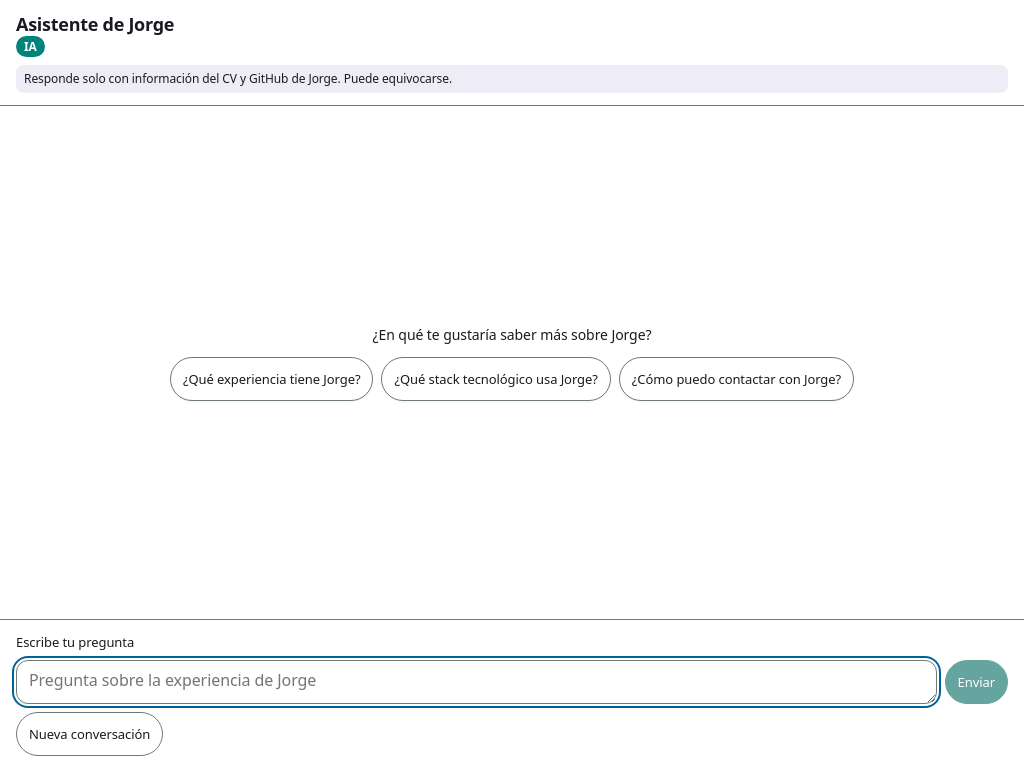
Scenario: RF-F41 — secuencia de un turno completo › announces that the assistant has nothing when the answer is empty
In the text box labelled "Escribe tu pregunta": (476, 682) [16,660,937,704], type "¿Dónde vive el gato de Jorge?"
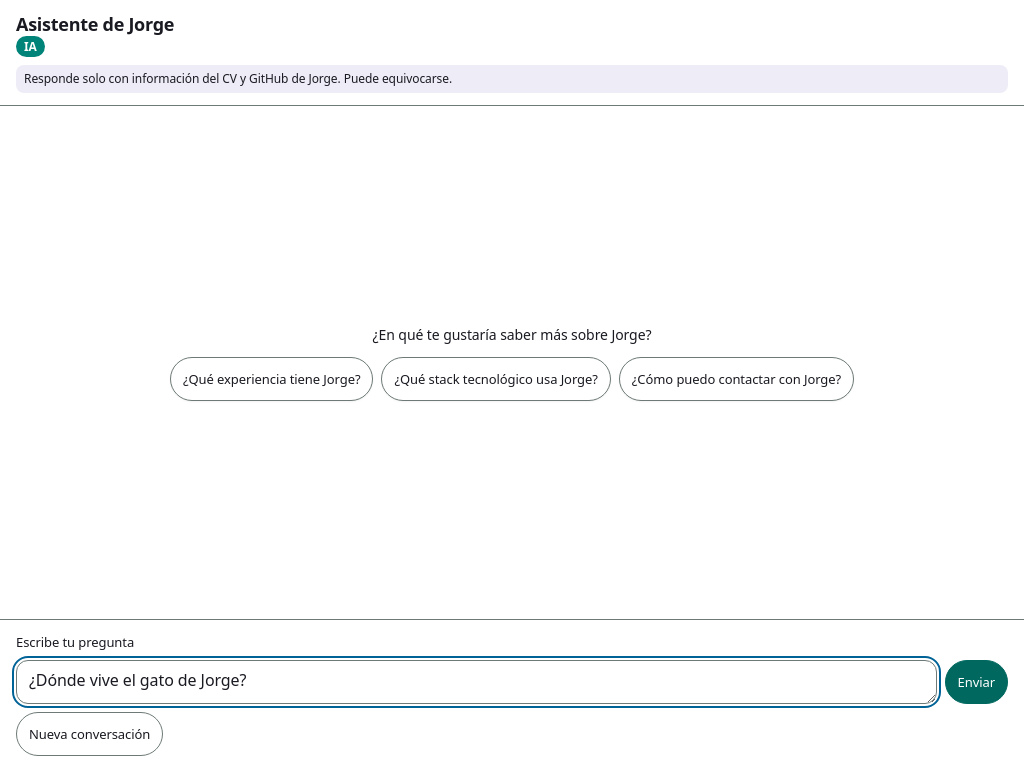
Click the button with aria-label "Enviar pregunta": click(976, 682) [945,660,1008,704]
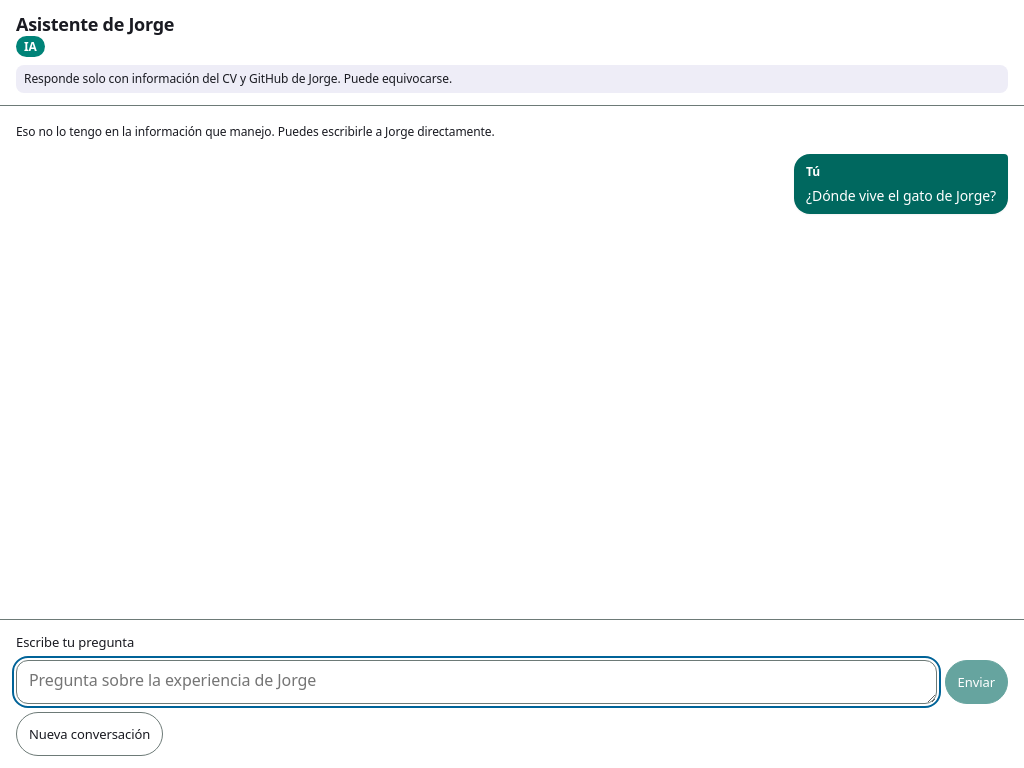
Result: the text "Eso no lo tengo en la información que manejo. Puedes escribirle a Jorge directamente." is shown at [16,123,495,140]
